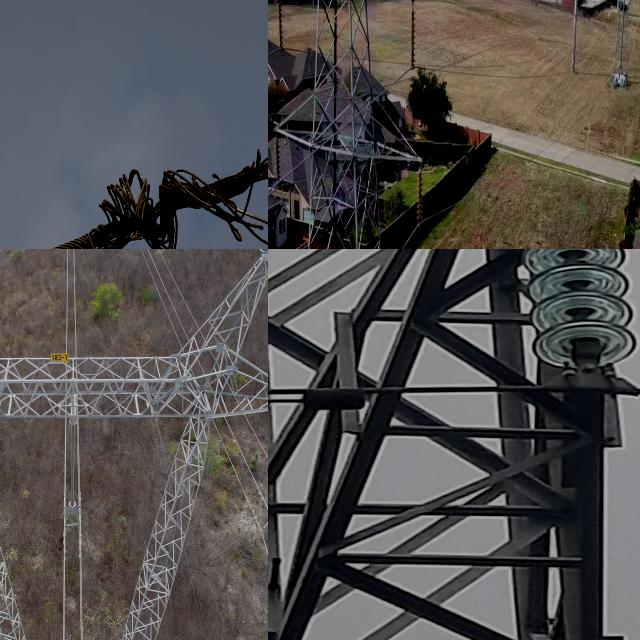杆塔: (268, 249, 638, 640), (0, 251, 268, 640), (268, 0, 431, 249), (605, 0, 638, 90)
正常绝缘子: (493, 249, 640, 396), (64, 378, 83, 516), (270, 128, 286, 204), (413, 160, 428, 235), (273, 0, 292, 58), (408, 0, 420, 75)
电缆破损: (16, 104, 268, 249)
